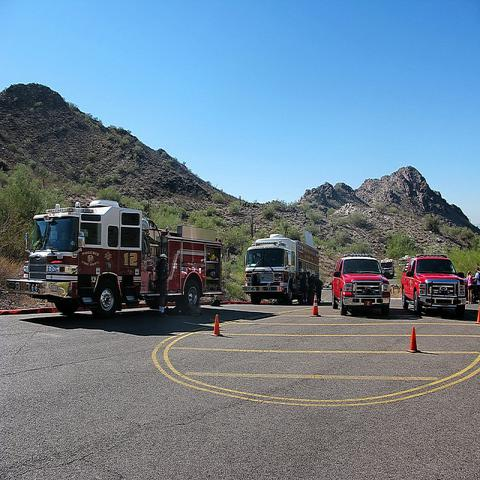truck: (6, 201, 224, 318), (242, 229, 319, 305), (399, 251, 467, 319), (330, 253, 392, 316), (380, 258, 394, 278)
